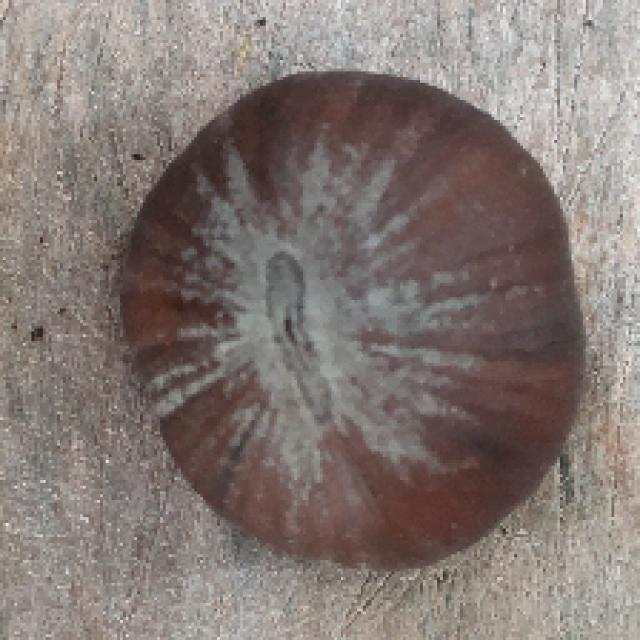qualityHazelnut: (116, 69, 584, 571)
